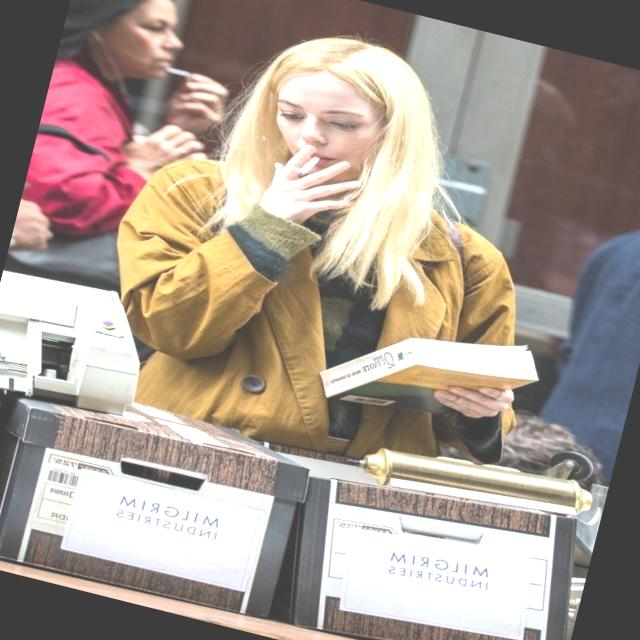cigarette: (300, 150, 334, 183)
